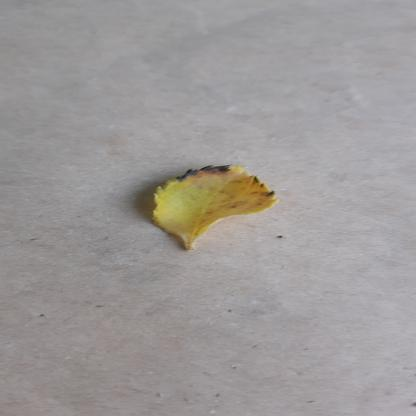black-spot: (133, 160, 283, 250)
